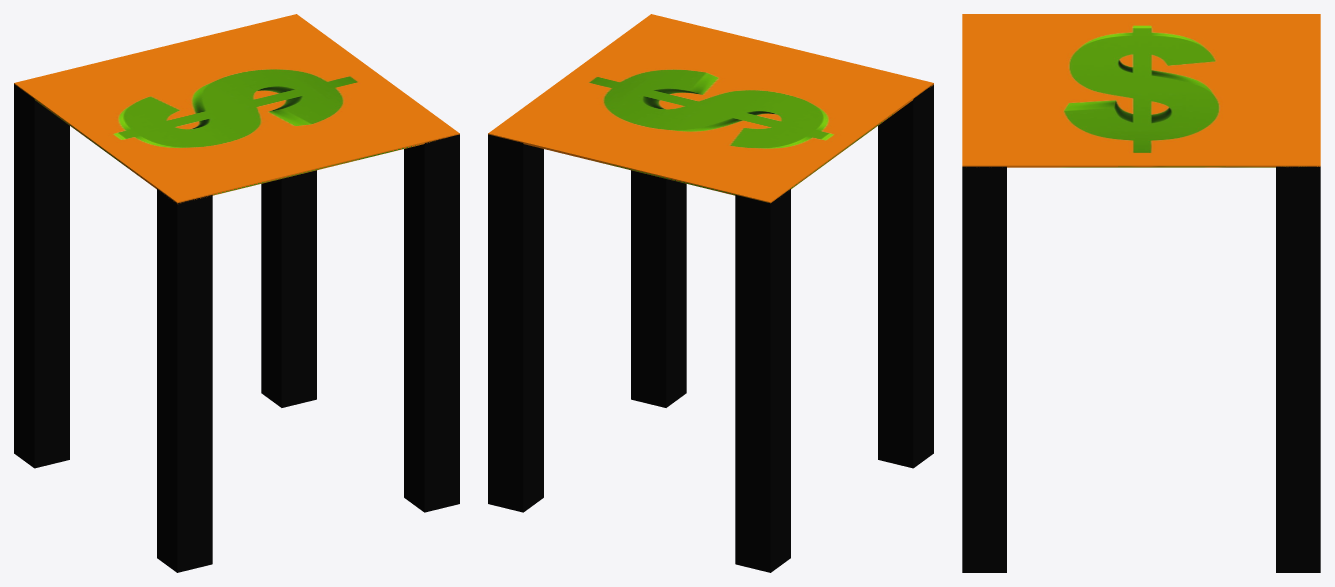
Rendered from cash-table.dae.
3 views of the same model, side by side, from view 1: azimuth 30°, elevation 25°; view 2: azimuth 150°, elevation 25°; view 3: azimuth 270°, elevation 25° (orthographic). The views are drawn at different scales.
Parts seen in each view (by area): view 1: Top.002, TL4.002, TL1.002, TL3.002, TL2.002; view 2: Top.002, TL3.002, TL2.002, TL4.002, TL1.002; view 3: Top.002, TL1.002, TL2.002.
Boxes of the visible parts, left/top/right/bottom form: Top.002: left=14, top=14, right=459, bottom=203; TL4.002: left=157, top=189, right=212, bottom=572; TL1.002: left=404, top=134, right=459, bottom=512; TL3.002: left=14, top=84, right=69, bottom=468; TL2.002: left=261, top=170, right=316, bottom=407; Top.002: left=488, top=14, right=933, bottom=203; TL3.002: left=735, top=189, right=790, bottom=572; TL2.002: left=488, top=134, right=543, bottom=512; TL4.002: left=878, top=84, right=933, bottom=468; TL1.002: left=631, top=170, right=686, bottom=407; Top.002: left=962, top=14, right=1320, bottom=167; TL1.002: left=962, top=166, right=1006, bottom=572; TL2.002: left=1276, top=166, right=1320, bottom=572.
Size of the model in its own units: 0.6096 by 0.6096 by 0.7641.
2 materials, 1 textured.
